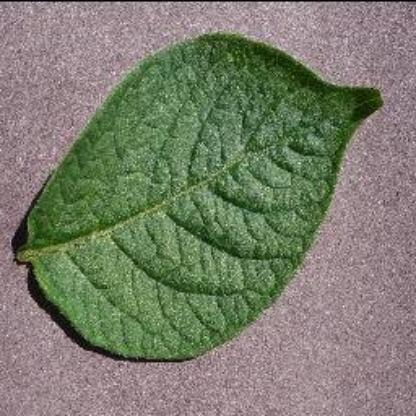Healthy-plant: (15, 29, 390, 371)
